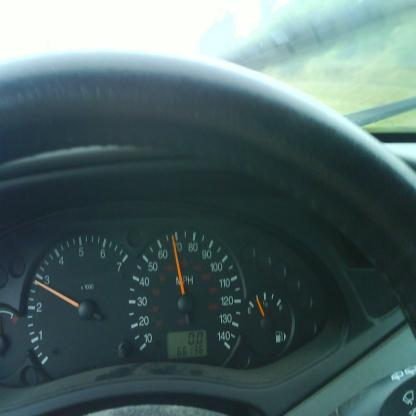Car: (1, 17, 416, 416)
